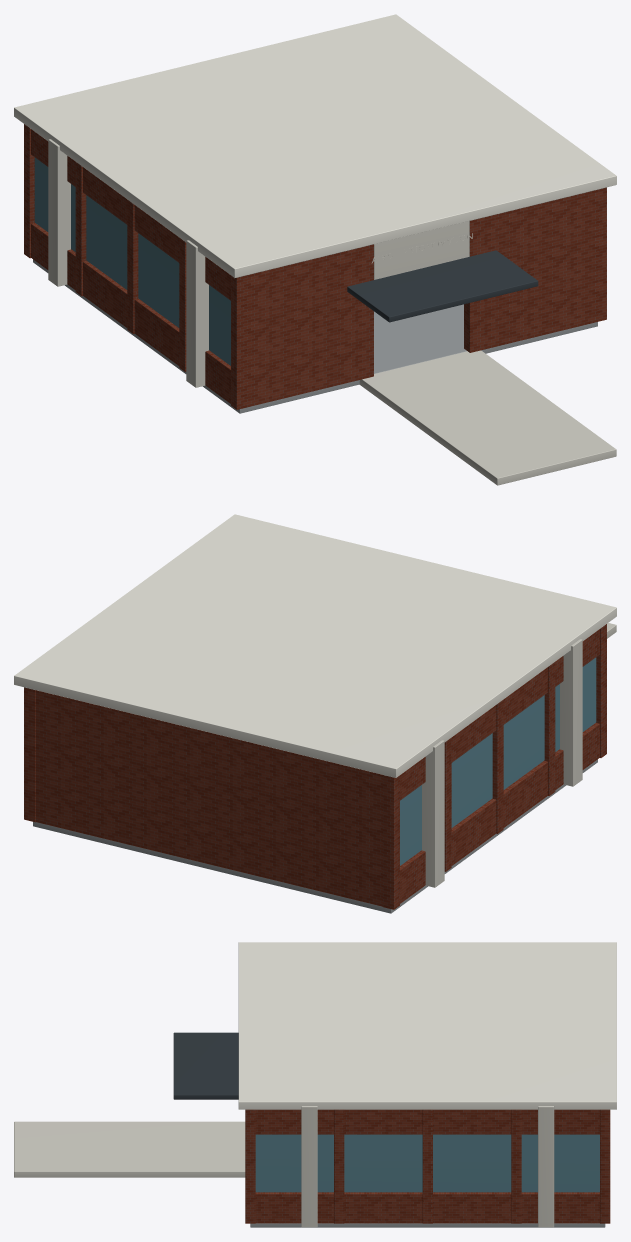
Rendered from SM_LegacyTower_HistoryPavilion.fbx.
The picture shows the model from 3 angles, top to bottom: view 1: azimuth 30°, elevation 25°; view 2: azimuth 150°, elevation 25°; view 3: azimuth 270°, elevation 25°; orthographic projection. The views are drawn at different scales.
Parts seen in each view (by area): view 1: SM_LegacyTower_HistoryPavilion; view 2: SM_LegacyTower_HistoryPavilion; view 3: SM_LegacyTower_HistoryPavilion.
Boxes of the visible parts, <box> form: SM_LegacyTower_HistoryPavilion: <box>14,14,616,485</box>; SM_LegacyTower_HistoryPavilion: <box>14,514,616,913</box>; SM_LegacyTower_HistoryPavilion: <box>14,942,616,1227</box>.
Size of what is drawn, in the model's own units: 1295 by 2040 by 489.
